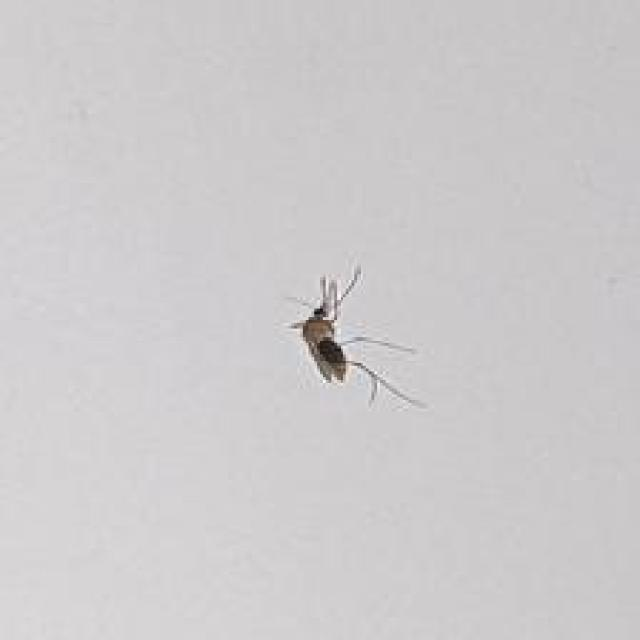Culex: (284, 264, 427, 410)
